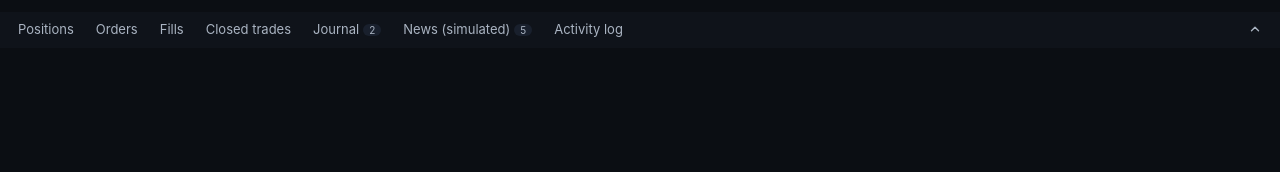
Test: the bottom panel › lists this session’s journal entries in its Journal tab, with notes written in place
This screenshot has width=1280, height=172.
Later steps or results of the test are not shown.
Click the button "Journal2": [347, 30] box [303,12,391,48]
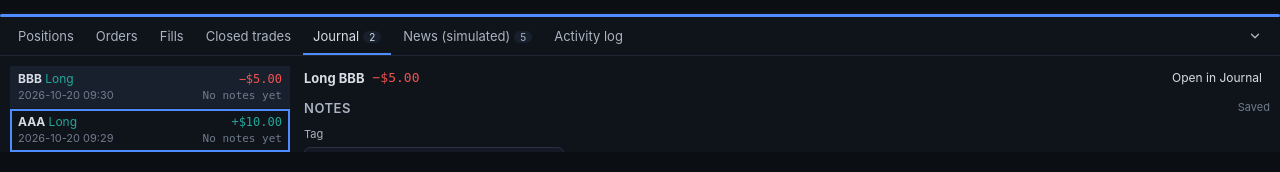
Expected: the text "Long BBB" is shown, [304,70,364,88]
Press Enter in the row "AAA Long 2026-10-20 09:29 +$10.00 No notes yet", box [10,109,290,152]
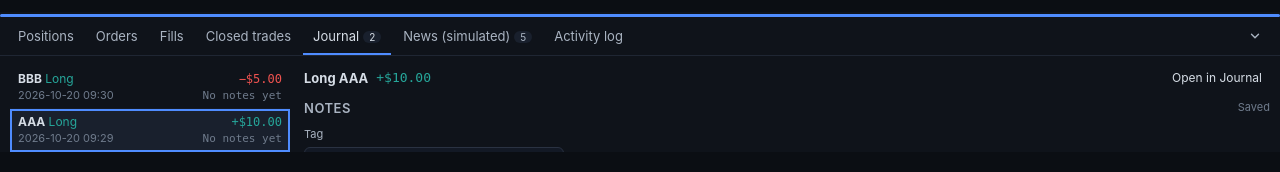
Expected: the text "Long AAA" is shown, [304,70,368,88]
